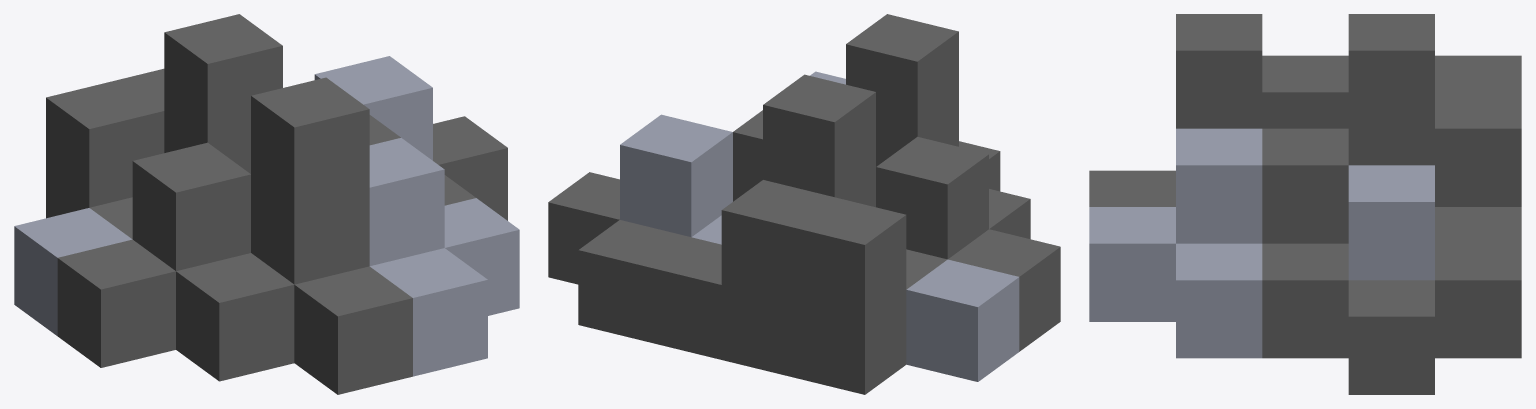
The model's file is Medieval Assets-319-Resource - Stone - Variant3.obj.
The picture shows the model from 3 angles, left to right: view 1: azimuth 30°, elevation 25°; view 2: azimuth 150°, elevation 25°; view 3: azimuth 270°, elevation 25°; orthographic projection. The views are drawn at different scales.
Visible parts, largest first — view 1: Resource - Stone - Variant3; view 2: Resource - Stone - Variant3; view 3: Resource - Stone - Variant3.
Part boxes in pixels (bbox=[...]): Resource - Stone - Variant3: bbox=[14, 14, 519, 394]; Resource - Stone - Variant3: bbox=[548, 14, 1060, 394]; Resource - Stone - Variant3: bbox=[1089, 14, 1521, 394].
Size of the model in its own units: 0.6 by 0.3 by 0.5.
1 material, 1 textured.
